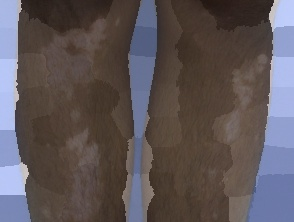vitiligo: (31, 0, 131, 222), (177, 32, 284, 222)
